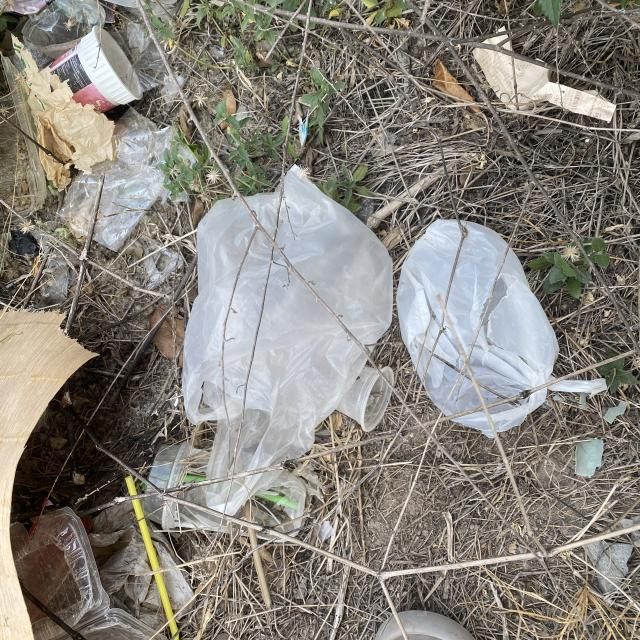Single-layer Plastic: (181, 167, 395, 518), (394, 219, 605, 442), (60, 109, 174, 250)
